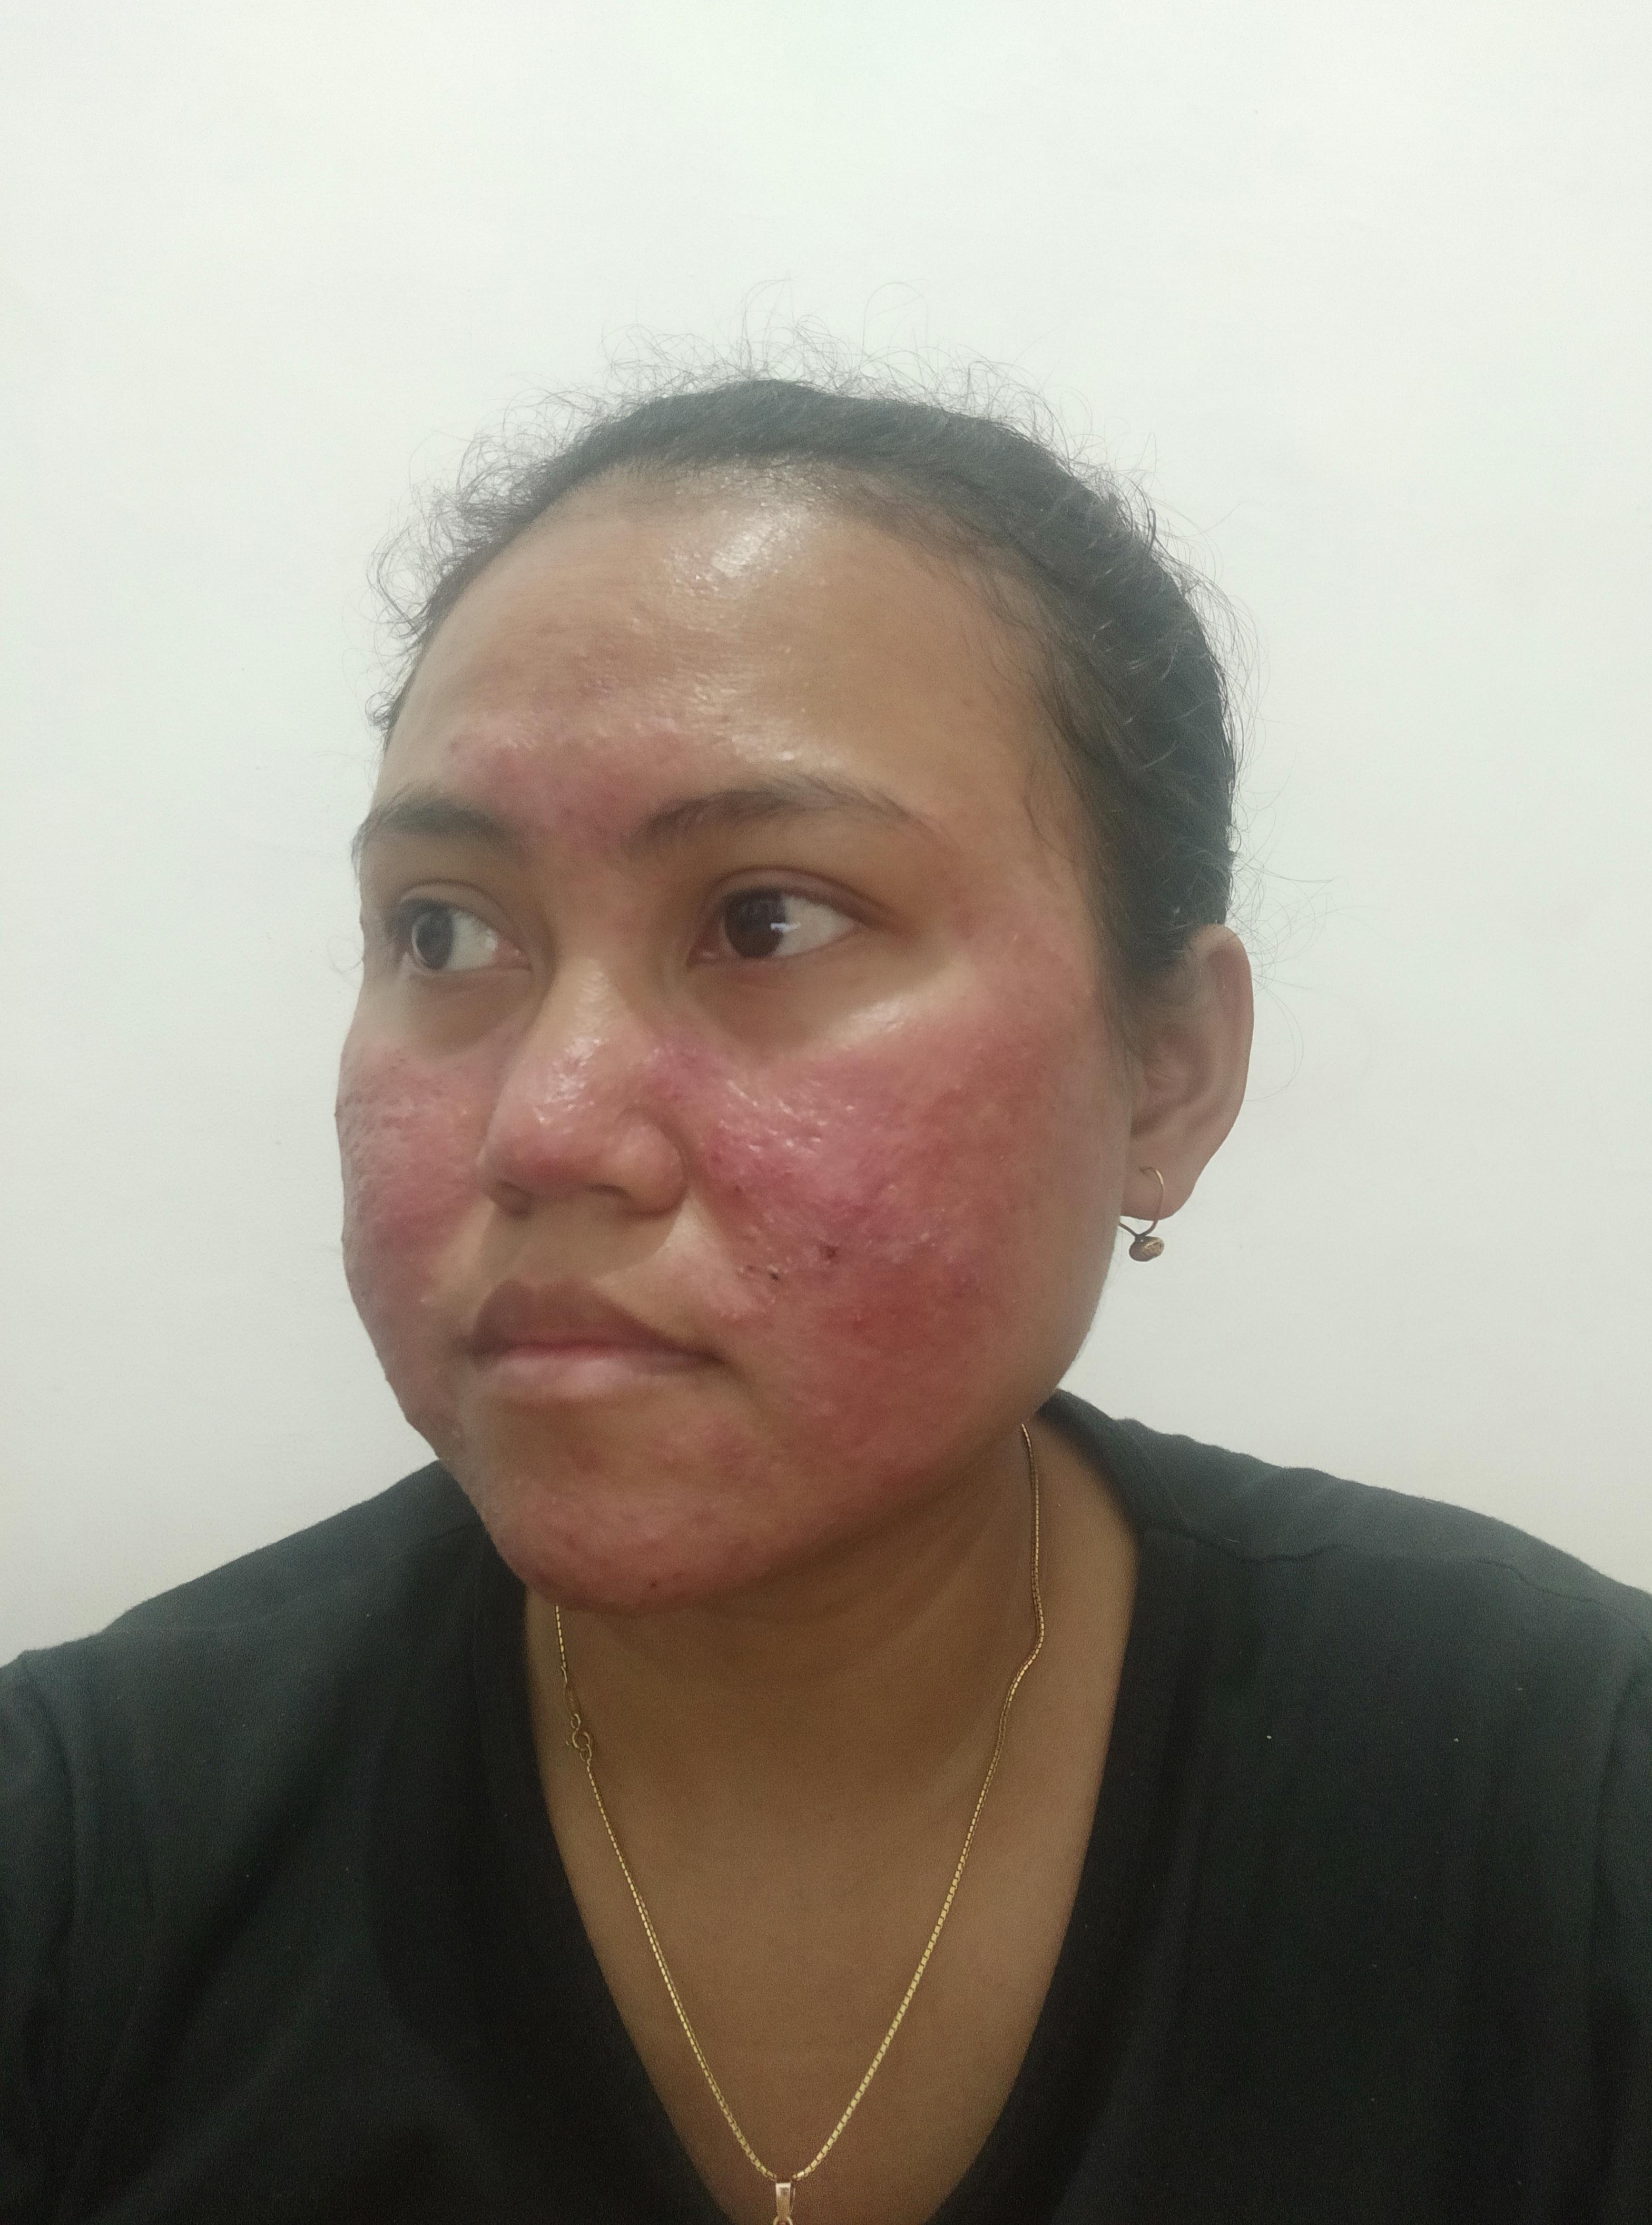Acne: (916, 1019, 1055, 1128), (713, 1069, 861, 1154), (843, 1156, 958, 1220), (897, 1218, 982, 1300), (639, 1019, 698, 1112), (545, 1034, 613, 1106), (731, 1187, 809, 1248), (344, 1053, 378, 1187), (364, 1083, 463, 1123), (696, 1420, 757, 1482), (706, 1137, 753, 1201), (397, 1189, 434, 1265), (947, 880, 986, 951), (642, 720, 692, 772), (705, 1291, 764, 1335), (850, 1435, 904, 1482), (522, 1145, 567, 1194), (1008, 923, 1065, 962), (482, 727, 533, 771), (635, 1529, 668, 1593), (560, 1439, 606, 1482), (547, 1517, 607, 1548), (826, 1307, 875, 1342), (533, 802, 574, 840), (732, 1255, 788, 1281), (649, 1449, 701, 1475), (798, 1395, 835, 1430), (588, 784, 625, 817), (814, 1236, 849, 1267), (442, 1420, 479, 1447), (536, 1559, 564, 1590), (727, 1538, 764, 1560), (687, 1510, 729, 1529), (439, 729, 463, 757)
